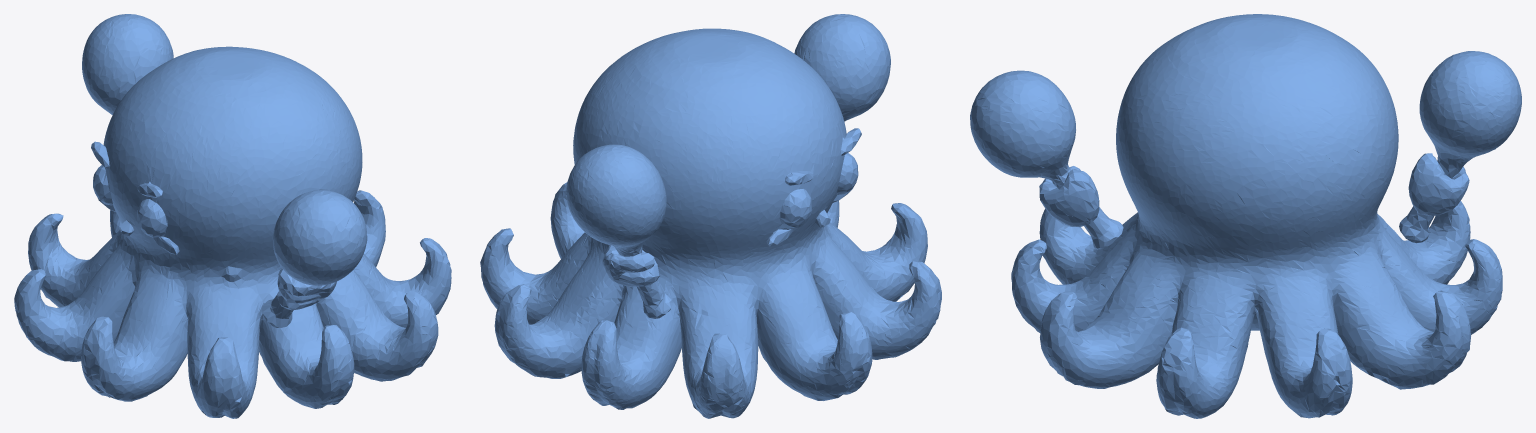
Rendered from octopus.glb.
The picture shows the model from 3 angles, left to right: view 1: azimuth 30°, elevation 25°; view 2: azimuth 150°, elevation 25°; view 3: azimuth 270°, elevation 25°; orthographic projection. The views are drawn at different scales.
Visible parts, largest first — view 1: AnimatedMesh; view 2: AnimatedMesh; view 3: AnimatedMesh.
Boxes of the visible parts, bbox=[...] form: AnimatedMesh: bbox=[14, 14, 451, 418]; AnimatedMesh: bbox=[480, 14, 941, 418]; AnimatedMesh: bbox=[970, 14, 1521, 418].
Size of the model in its own units: 1.59 by 1.16 by 1.88.
